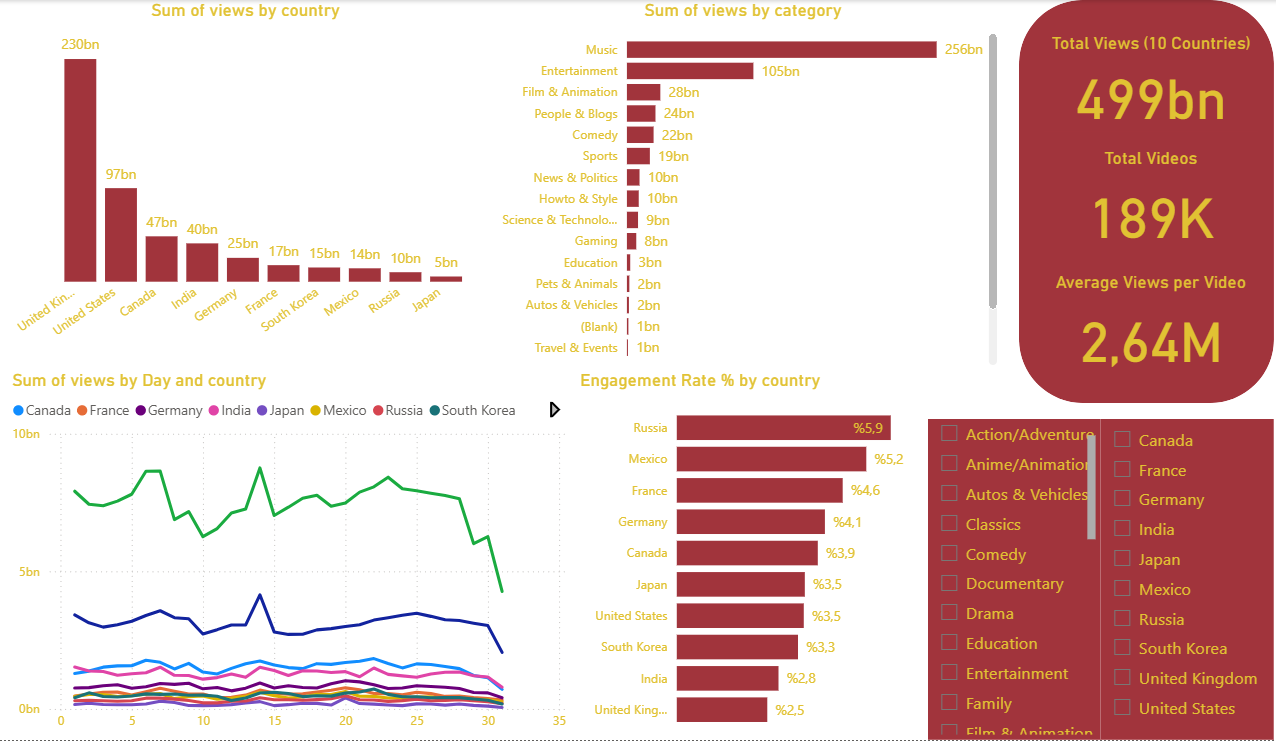

What the dashboard file says about the page in this screenshot:
{"tool":"powerbi","page":{"name":"Page 1","canvas":[1280,720],"ordinal":0},"visuals":[{"type":"shape","box":[992,0,248,392],"z":500,"group":"g2"},{"type":"clusteredColumnChart","title":"Sum of views by country","fields":{"Category":["dimCountry.country_name"],"Y":["Sum(factVideos_Global.views)"]},"box":[8,0,464,360],"z":1000},{"type":"clusteredBarChart","title":"Sum of views by category","fields":{"Category":["dimCategory.category_title"],"Y":["Sum(factVideos_Global.views)"]},"box":[472,0,504,360],"z":2000},{"type":"card","title":"Total Views (10 Countries)","fields":{"Values":["factVideos_Global.Total Views"]},"box":[1016,32,208,96],"z":3000,"group":"g1"},{"type":"lineChart","title":"Sum of views by Day and country","fields":{"Y":["Sum(factVideos_Global.views)"],"Category":["factVideos_Global.trending_date_date.Variation.Date Hierarchy.Day"],"Series":["dimCountry.country_name"]},"box":[8,360,552,360],"z":3000},{"type":"slicer","fields":{"Values":["dimCountry.country_name"]},"box":[1072,408,168,312],"z":4000},{"type":"card","title":"Total Videos","fields":{"Values":["factVideos_Global.Total Videos"]},"box":[1016,144,208,104],"z":5000,"group":"g1"},{"type":"clusteredBarChart","title":"Engagement Rate % by country","fields":{"Category":["dimCountry.country_name"],"Y":["factVideos_Global.Engagement Rate %"]},"box":[560,360,344,360],"z":5000},{"type":"card","title":"Average Views per Video","fields":{"Values":["factVideos_Global.Average Views per Video"]},"box":[1016,264,208,104],"z":6000,"group":"g1"},{"type":"slicer","fields":{"Values":["dimCategory.category_title"]},"box":[904,408,168,312],"z":6000},{"type":"group","id":"g1","title":"Group 1","box":[1016,32,208,336],"z":7000,"group":"g2"},{"type":"group","id":"g2","title":"Group 2","box":[992,0,248,392],"z":7001}]}

Visuals, with their boxes on the page's 1280x720 design canvas (x1, y1, x2, y2). These are canvas units, not pixel positions in the 1276x741 screenshot, which may show the page scaled, cropped or inside an application window:
shape: (992,0,1240,392)
"Sum of views by country" clusteredColumnChart: (8,0,472,360)
"Sum of views by category" clusteredBarChart: (472,0,976,360)
"Total Views (10 Countries)" card: (1016,32,1224,128)
"Sum of views by Day and country" lineChart: (8,360,560,720)
slicer - dimCountry.country_name: (1072,408,1240,720)
"Total Videos" card: (1016,144,1224,248)
"Engagement Rate % by country" clusteredBarChart: (560,360,904,720)
"Average Views per Video" card: (1016,264,1224,368)
slicer - dimCategory.category_title: (904,408,1072,720)
"Group 1" group: (1016,32,1224,368)
"Group 2" group: (992,0,1240,392)
